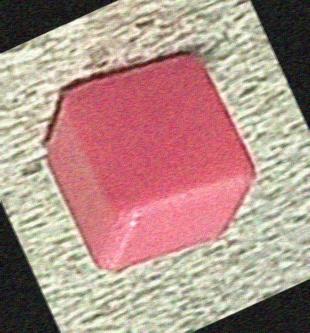orange_cube: (39, 52, 267, 274)
